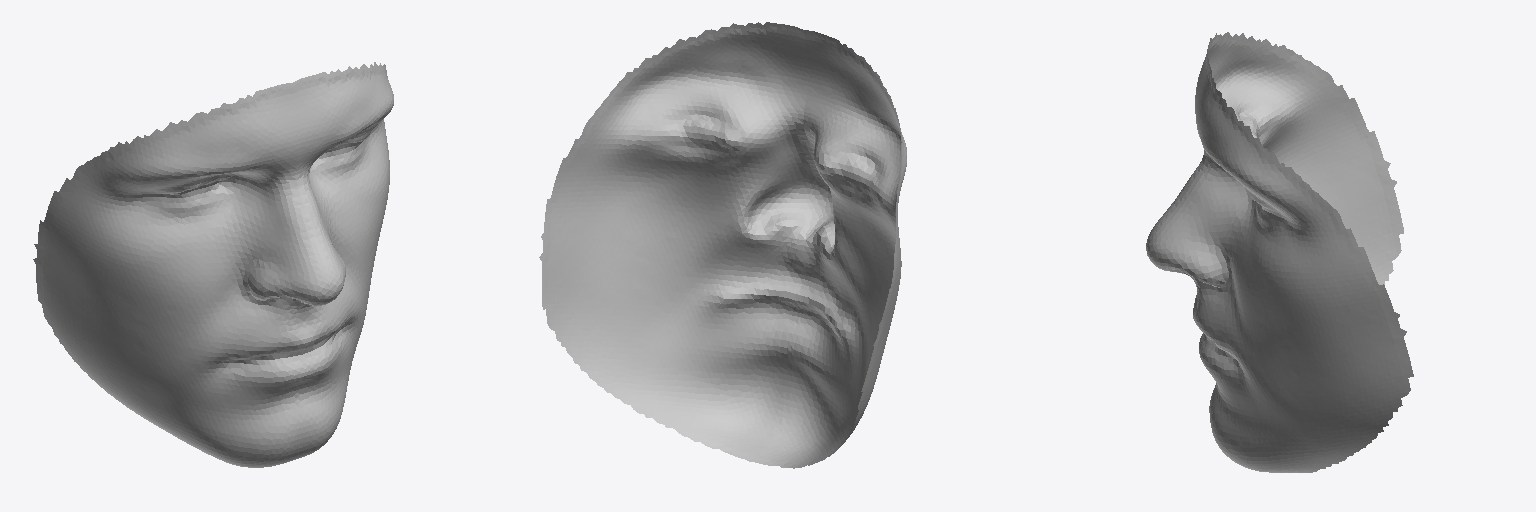
Rendered from SIMPOP_33.obj.
3 renders of one model, left to right at view 1: azimuth 30°, elevation 25°; view 2: azimuth 150°, elevation 25°; view 3: azimuth 270°, elevation 25°, orthographic.
Parts seen in each view (by area): view 1: SIMPOP_33; view 2: SIMPOP_33; view 3: SIMPOP_33.
Boxes of the visible parts, x1,y1,x2,y2 form: SIMPOP_33: [33, 62, 393, 467]; SIMPOP_33: [539, 22, 906, 468]; SIMPOP_33: [1146, 32, 1413, 472].
Bounding box in the file's own units: 144 × 164 × 98.83.